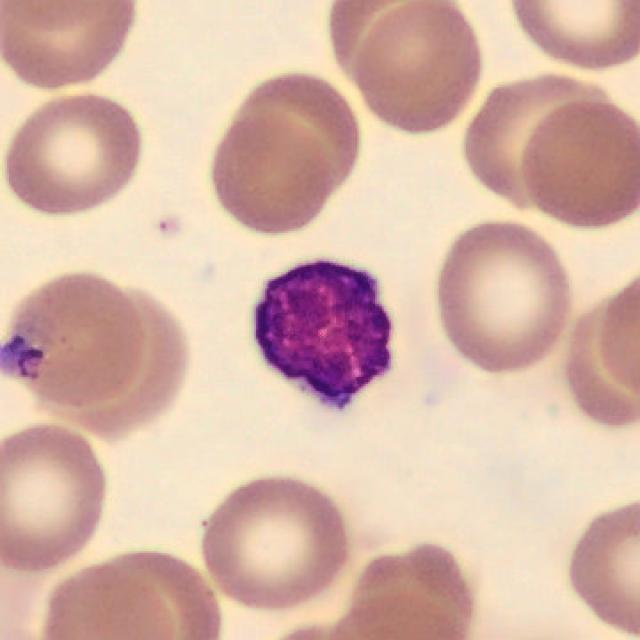Linfocito: (254, 261, 389, 405)
